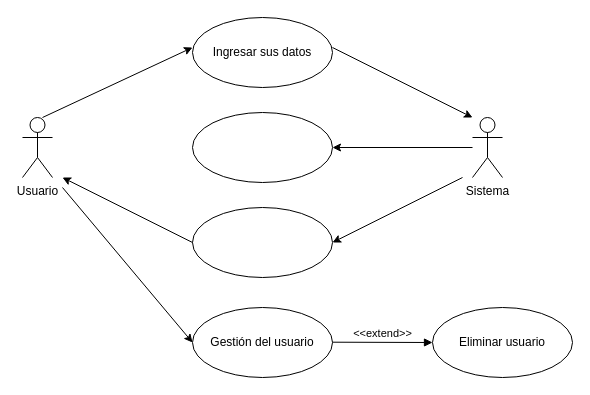
Image size: 590x395. Some labels were removed from this diagram. The centre of each missing label's shape, as x and y in pixels:
"Concede permisos" goes at point (262, 242).
"Valida datos" goes at point (262, 147).
